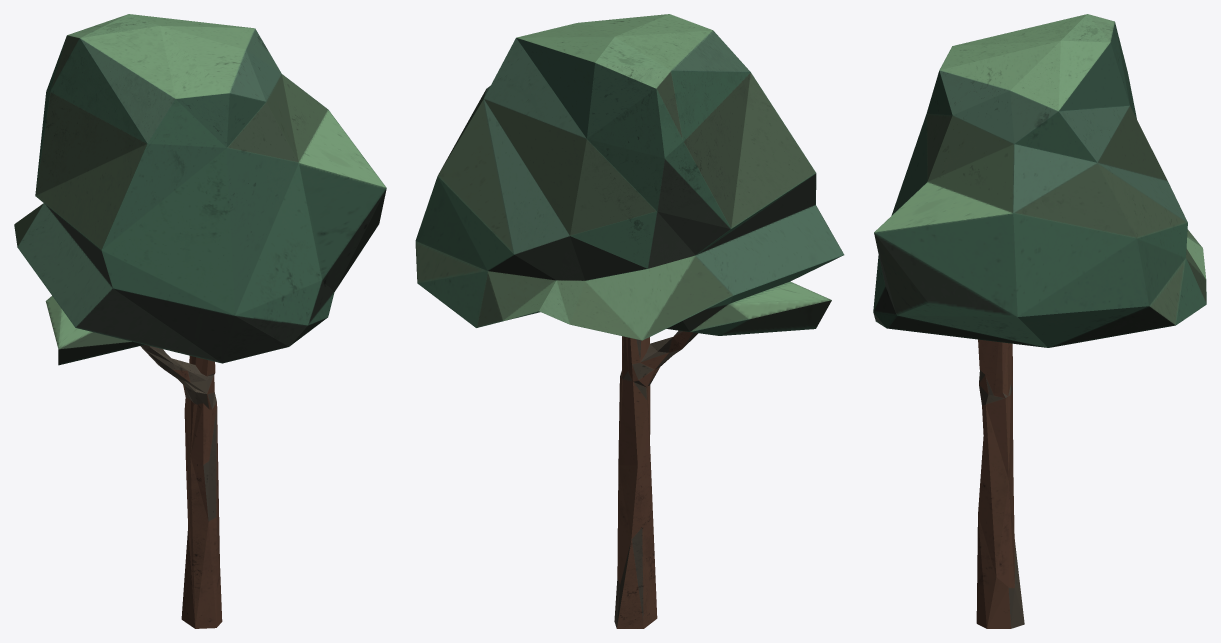
Rendered from tree.gltf.
The picture shows the model from 3 angles, left to right: view 1: azimuth 30°, elevation 25°; view 2: azimuth 150°, elevation 25°; view 3: azimuth 270°, elevation 25°; orthographic projection. The views are drawn at different scales.
Visible parts, largest first — view 1: tree_4.1; view 2: tree_4.1; view 3: tree_4.1.
Part boxes in pixels (x1,y1,x2,y2): tree_4.1: [14, 14, 386, 628]; tree_4.1: [415, 14, 844, 628]; tree_4.1: [873, 14, 1206, 628].
Bounding box in the file's own units: 0.1426 × 0.2393 × 0.1256.
Materials: 1 (1 with a texture image).
